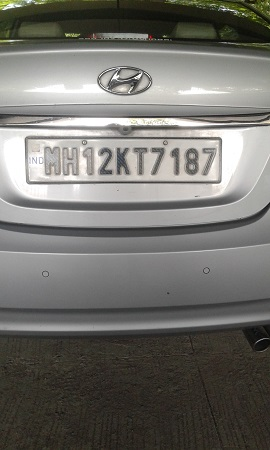licenseplate: (22, 134, 225, 186)
